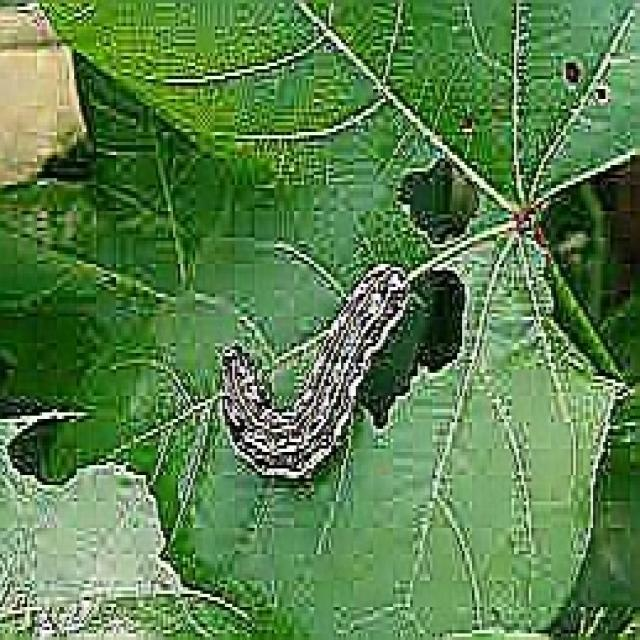Armyworm: (190, 254, 418, 521)
Armyworm_damage: (392, 154, 500, 259)
